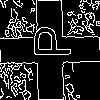P: (25, 25, 71, 59)
